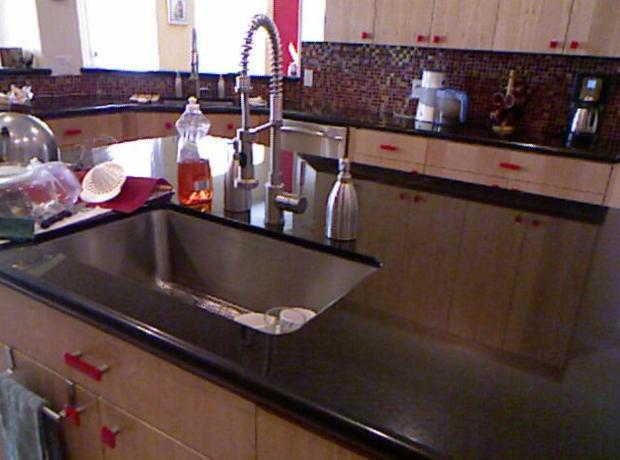Lavaplatos: (0, 12, 394, 337)
